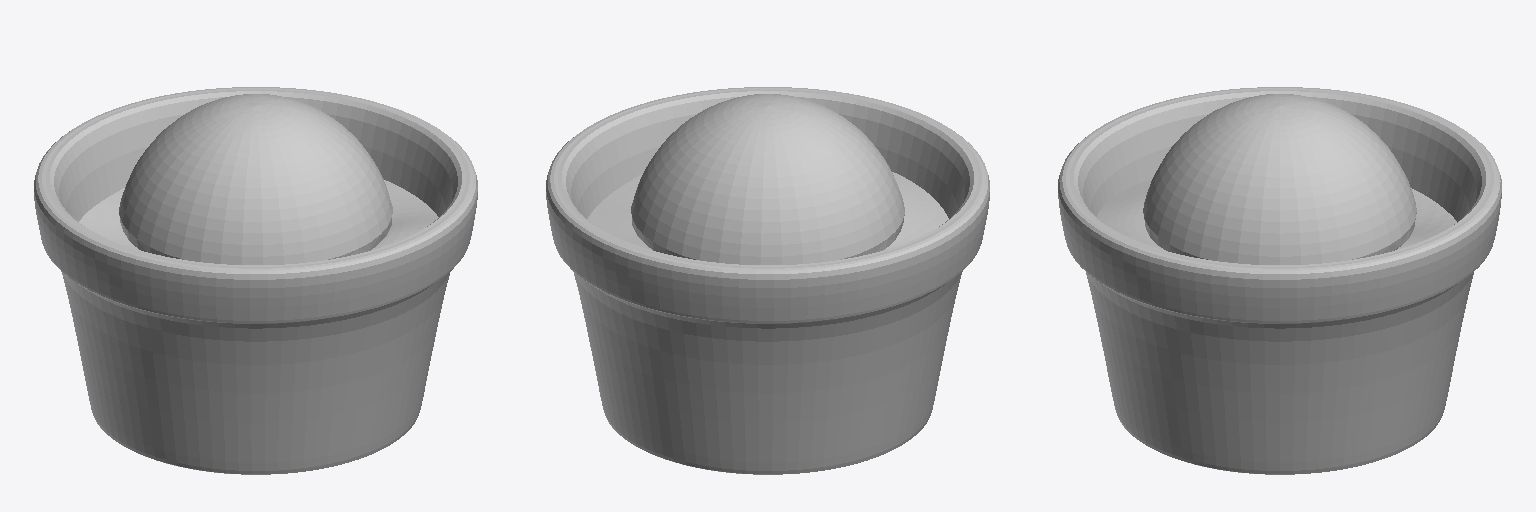
File: comida_gastada.obj
3 views of the same model, side by side, from view 1: azimuth 30°, elevation 25°; view 2: azimuth 150°, elevation 25°; view 3: azimuth 270°, elevation 25° (orthographic).
Visible parts, largest first — view 1: polySurface5; view 2: polySurface5; view 3: polySurface5.
Part boxes in pixels (x1,y1,x2,y2): polySurface5: (34, 87, 477, 474); polySurface5: (546, 87, 989, 474); polySurface5: (1058, 87, 1501, 474).
Bounding box in the file's own units: 0.4143 × 0.309 × 0.4143.